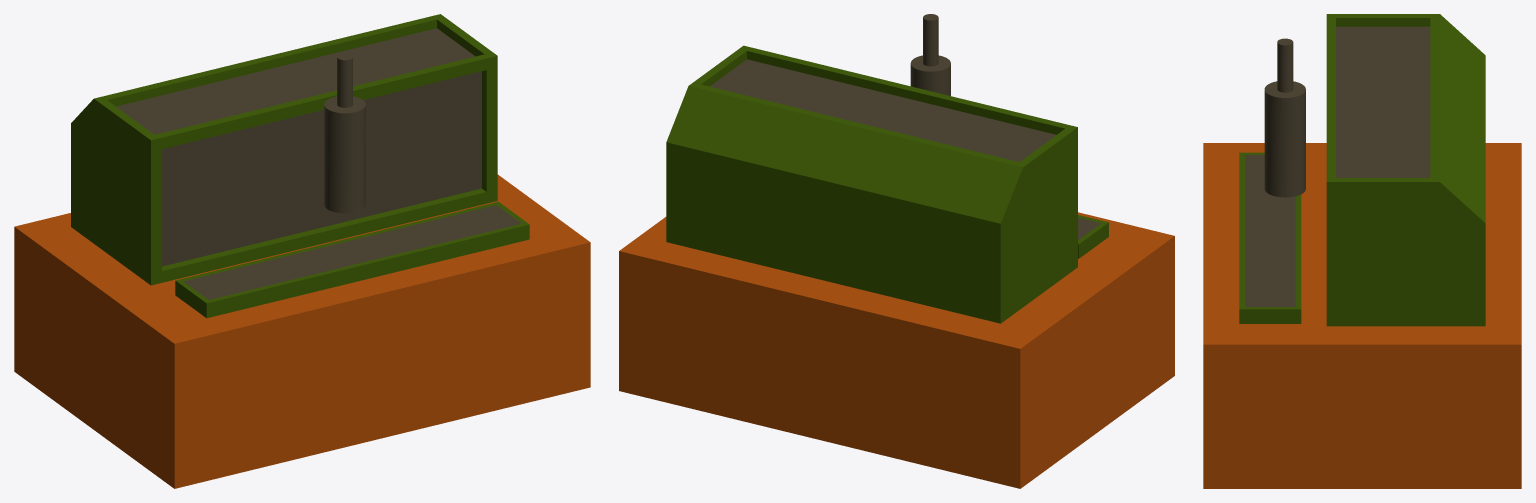
The model's file is CoffeeMachine.fbx.
3 renders of one model, left to right at view 1: azimuth 30°, elevation 25°; view 2: azimuth 150°, elevation 25°; view 3: azimuth 270°, elevation 25°, orthographic. The views are drawn at different scales.
Visible parts, largest first — view 1: Cube, Machine; view 2: Cube, Machine; view 3: Cube, Machine.
Boxes of the visible parts, x1,y1,x2,y2 form: Cube: (14, 174, 590, 488); Machine: (71, 14, 529, 318); Cube: (619, 212, 1174, 488); Machine: (666, 14, 1108, 323); Cube: (1203, 143, 1521, 488); Machine: (1239, 14, 1485, 326).
Size of the model in its own units: 300 by 241 by 200.
